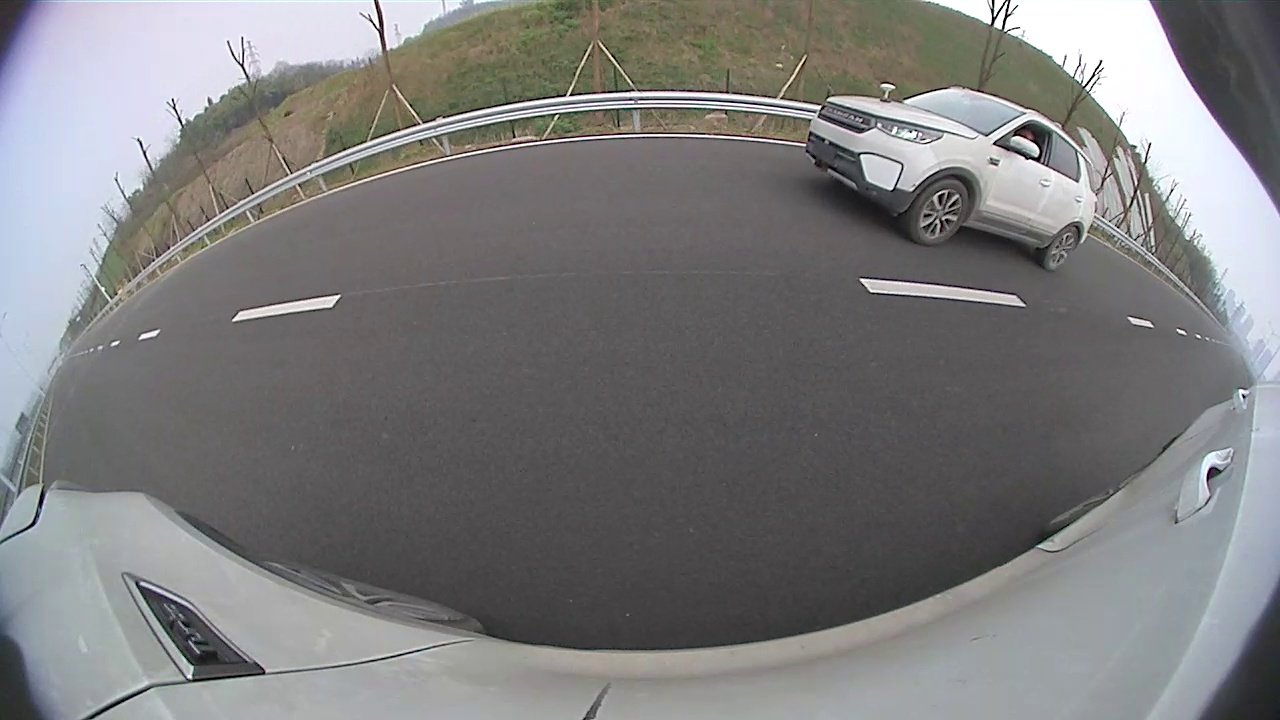car: (806, 87, 1098, 270)
front: (911, 175, 970, 246)
rear: (1043, 223, 1083, 270)
